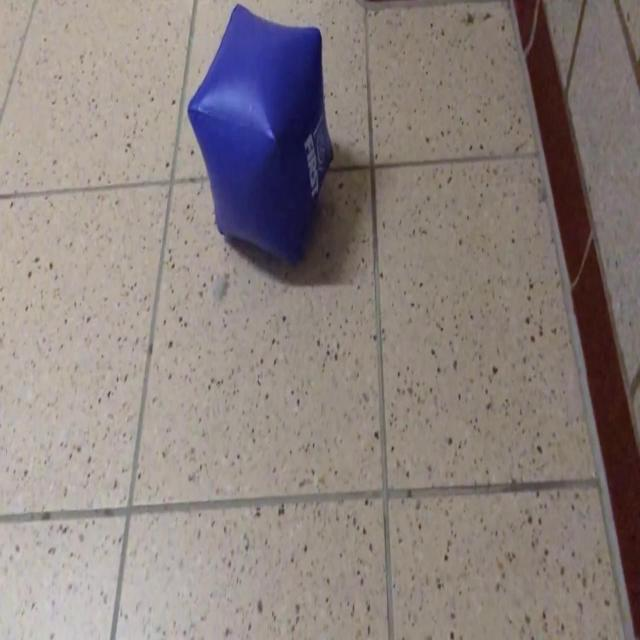frc_cube: (187, 5, 333, 262)
